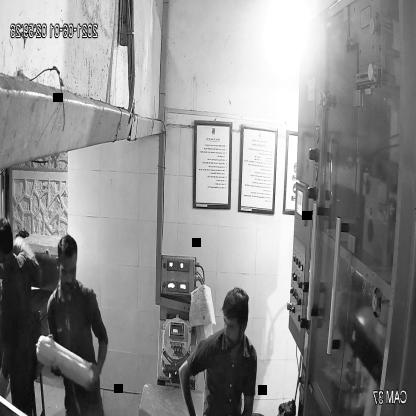no_goggles: (222, 314, 250, 337)
